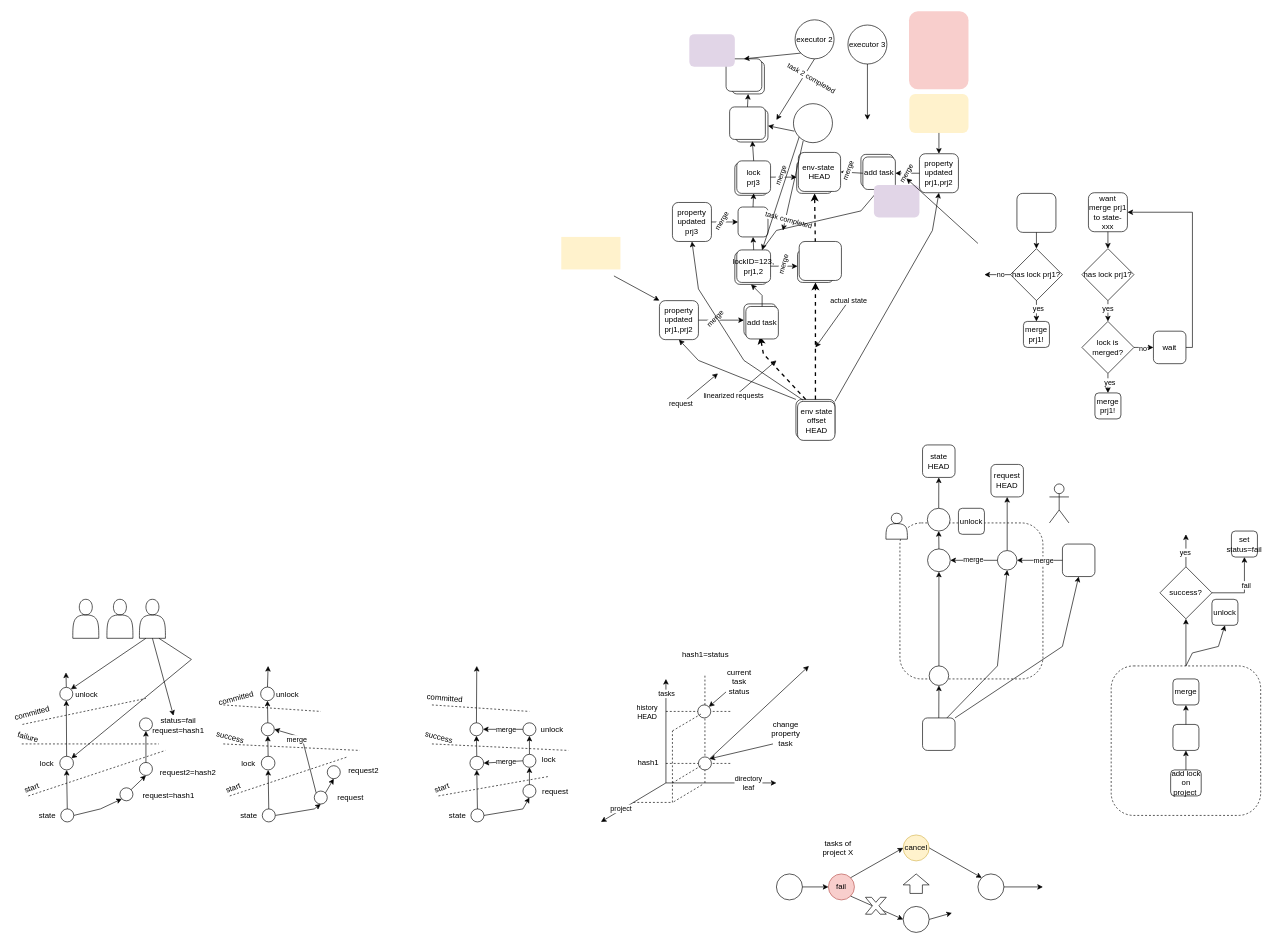
The diagram is 1273 pixels wide and 944 high, and some of its shapes have lost their labels. Here are the shapes that lost their labels. From the top down, the centre of each, then its label:
At (711,50): "env-request-001 HEAD".
At (938,50): "- prj1 - lock - prj2 - lock - prj3 - version".
At (743,74): "release lock prj3".
At (747,122): "release lock prj1,2".
At (812,123): "executor 1".
At (938,113): "Pull Request my-branch -> env-request-002".
At (752,221): "add task 2".
At (896,201): "env-request-lockID=123-002 HEAD".
At (1036,212): "want merge prj1 to request-xxx".
At (590,253): "Pull Request my-branch -> env-request-001".
At (820,260): "upd env-state".
At (1059,503): "Actor".
At (1078,560): "change-property HEAD".
At (1185,737): "do work".
